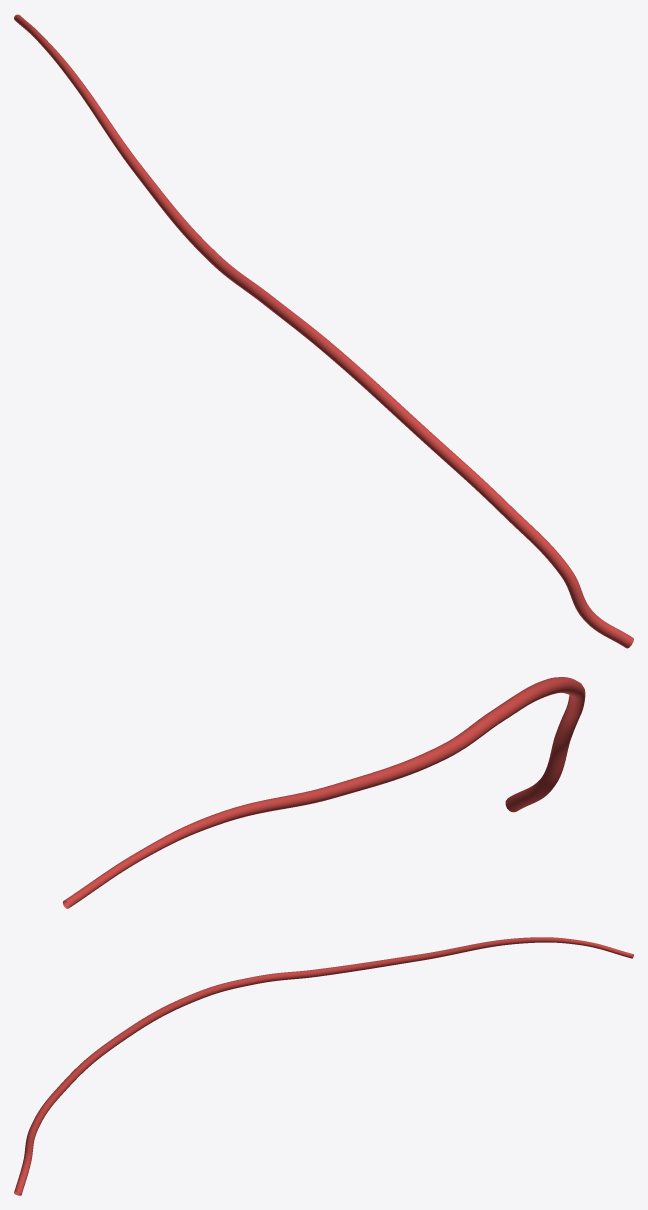
3 renders of one model, top to bottom at view 1: azimuth 30°, elevation 25°; view 2: azimuth 150°, elevation 25°; view 3: azimuth 270°, elevation 25°, orthographic. The views are drawn at different scales.
Parts seen in each view (by area): view 1: 左侧颈横动脉浅支; view 2: 左侧颈横动脉浅支; view 3: 左侧颈横动脉浅支.
Boxes of the visible parts, x1,y1,x2,y2 form: 左侧颈横动脉浅支: (14, 14, 633, 648); 左侧颈横动脉浅支: (63, 677, 585, 908); 左侧颈横动脉浅支: (14, 937, 633, 1195).
Size of the model in its own units: 0.0434 by 0.0719 by 0.1922.
